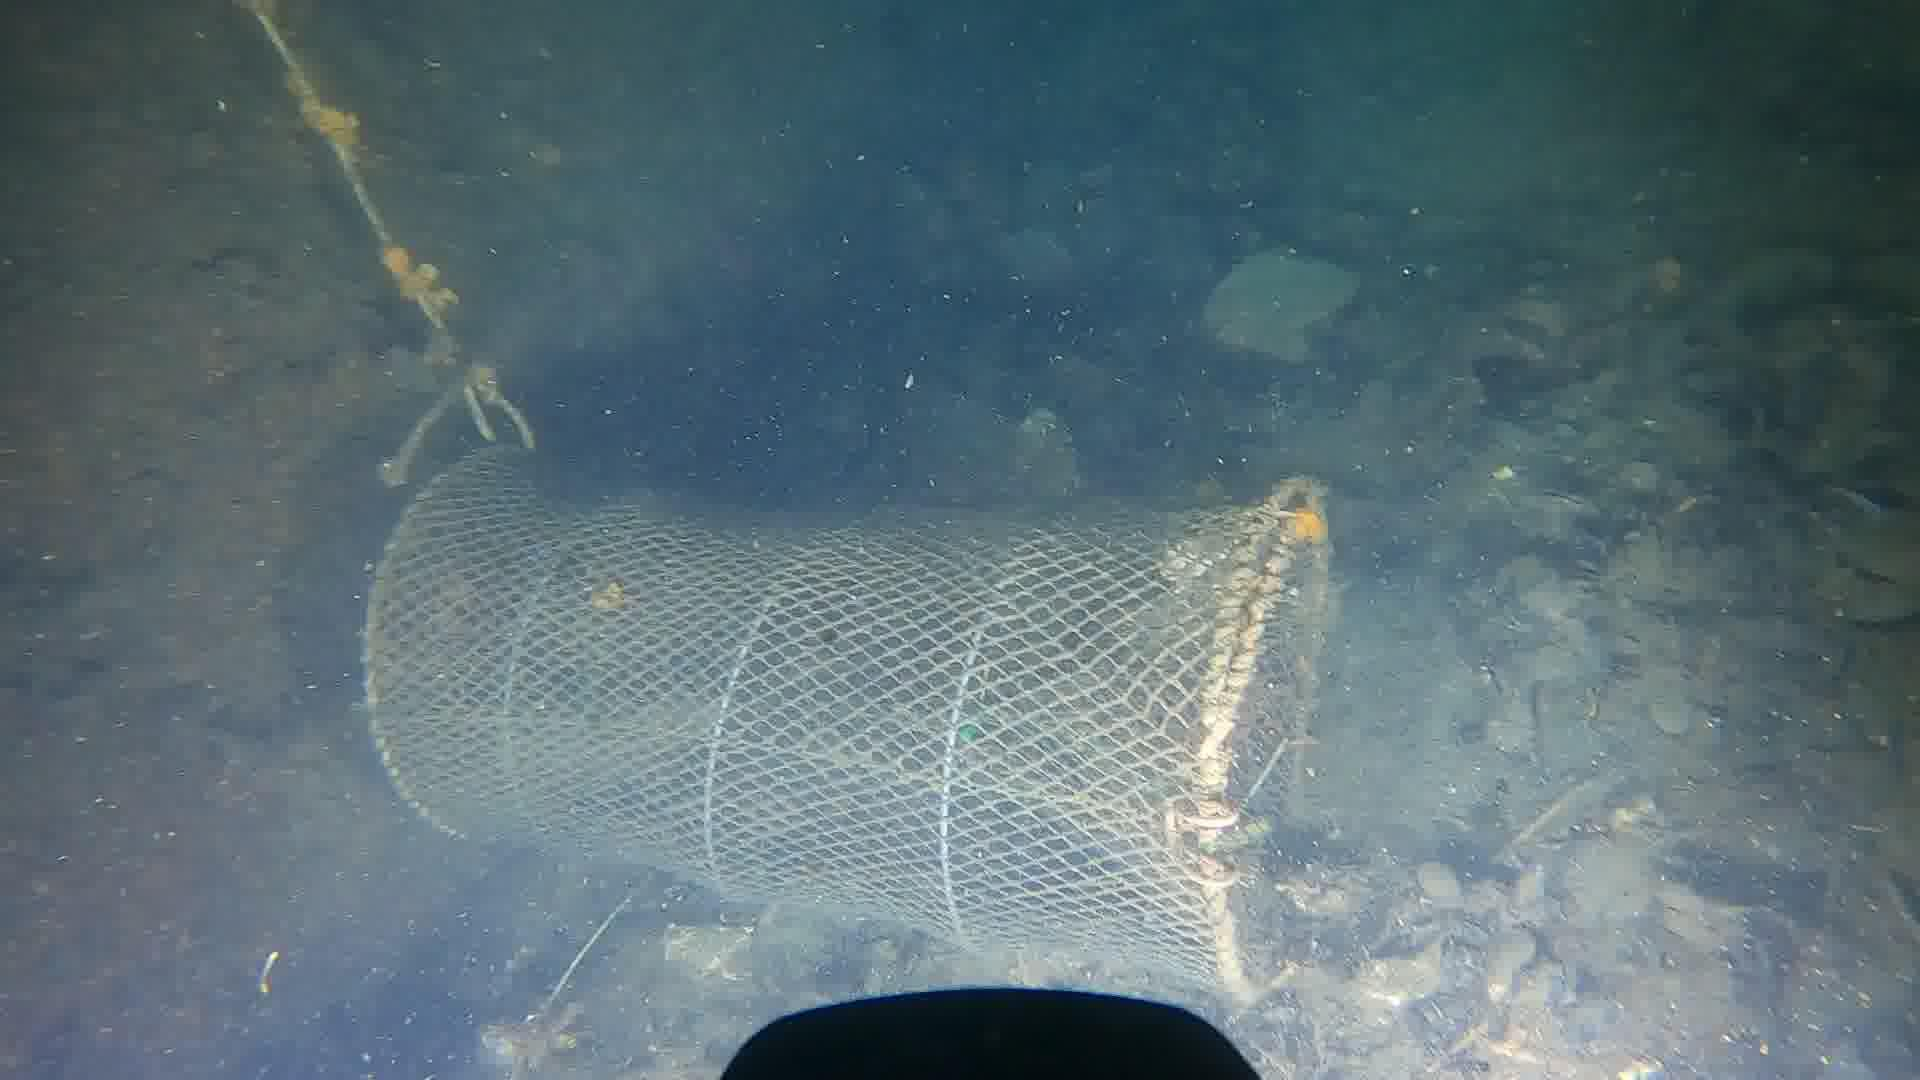bundle of ropes: (225, 0, 535, 484)
spring fish trap: (356, 448, 1332, 1011)
